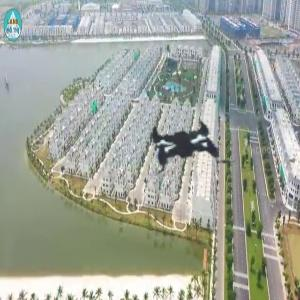drone: (103, 68, 270, 235)
